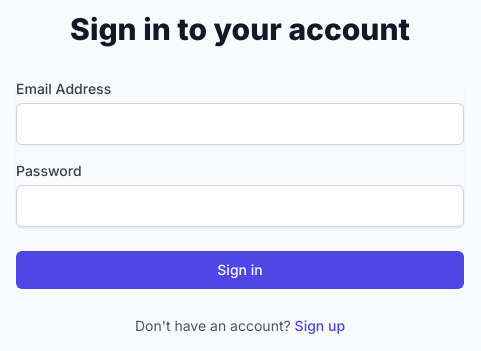
it: LoginPage › should disable submit button during loading
Type "test@example.com" into the field labelled "Email Address".
click(240, 124); type("test@example.com")  # box 16,103 -> 464,145
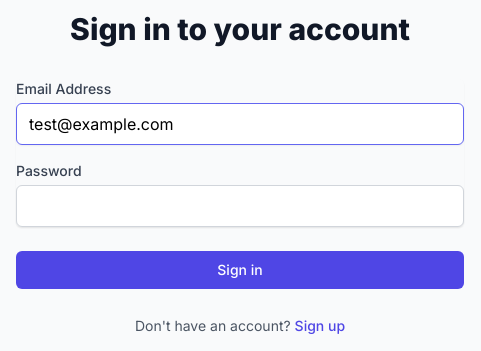
Type "password123" into the password field labelled "Password".
click(240, 206); type("password123")  # box 16,185 -> 464,227
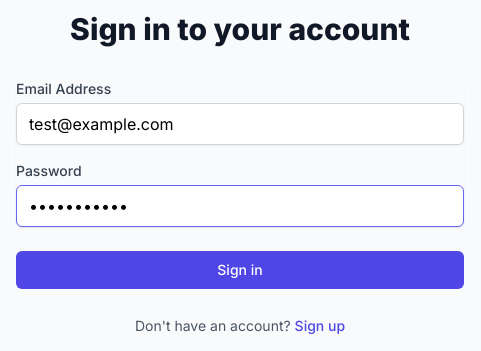
Click the button "Sign in".
click(240, 270)  # box 16,251 -> 464,289
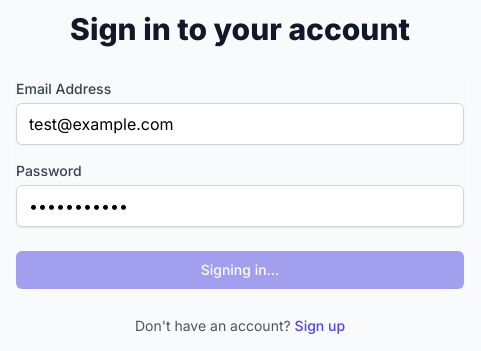
Expected: the button named "sign in" is disabled, 16,251 -> 464,289
